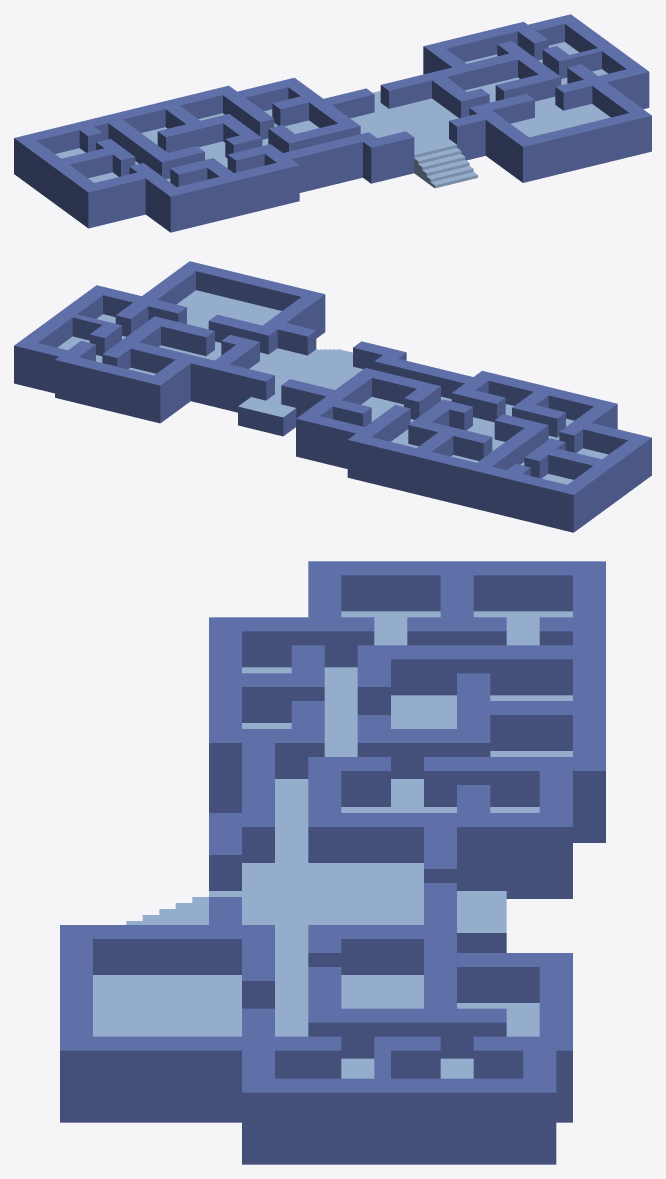
File: test_second_floor.fbx
3 views of the same model, one above another, from view 1: azimuth 30°, elevation 25°; view 2: azimuth 150°, elevation 25°; view 3: azimuth 270°, elevation 25° (orthographic). The views are drawn at different scales.
Parts seen in each view (by area): view 1: Floor; view 2: Floor; view 3: Floor.
Boxes of the visible parts, x1,y1,x2,y2 form: Floor: (14, 14, 651, 232); Floor: (14, 261, 651, 532); Floor: (60, 561, 605, 1164).
Bounding box in the file's own units: 19000 × 1200 × 8250.
